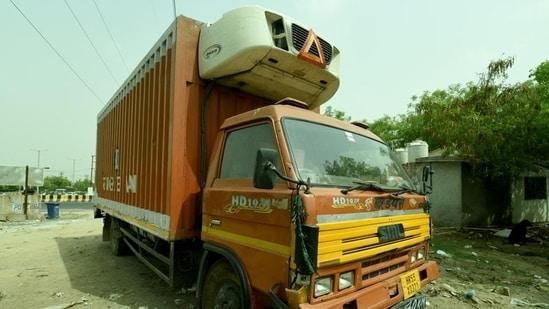truck: (92, 6, 438, 309)
